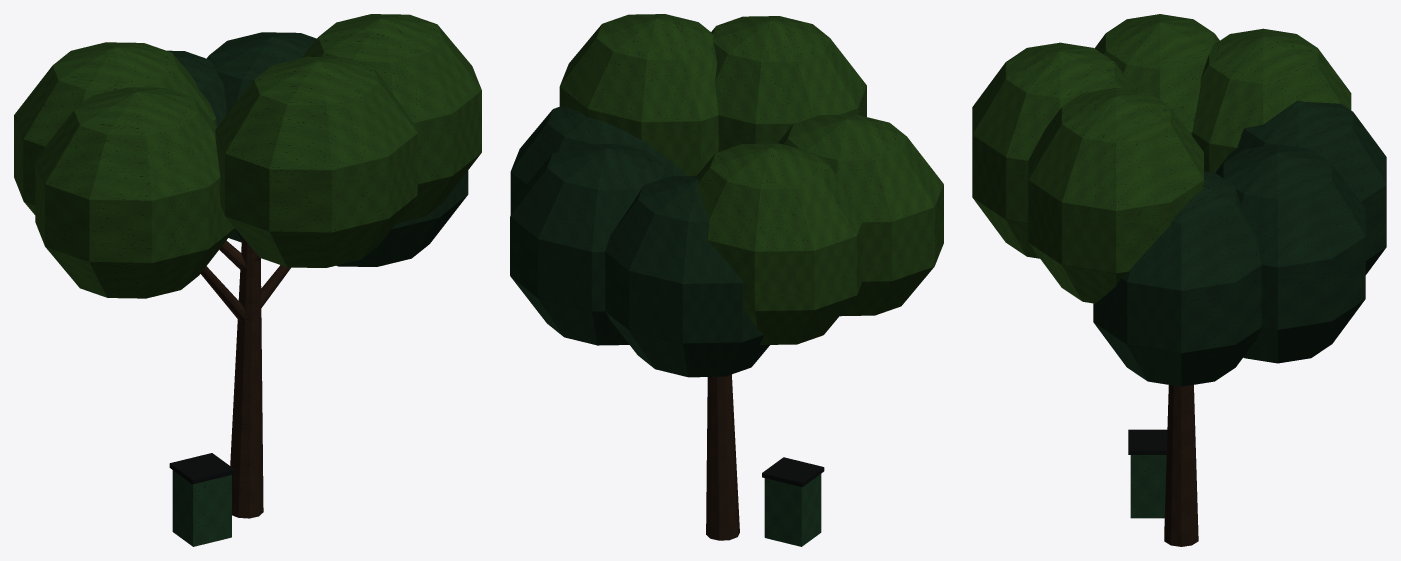
The model's file is PROP-B2791134C201_lod1.glb.
The picture shows the model from 3 angles, left to right: view 1: azimuth 30°, elevation 25°; view 2: azimuth 150°, elevation 25°; view 3: azimuth 270°, elevation 25°; orthographic projection. The views are drawn at different scales.
Visible parts, largest first — view 1: leaf_crown.093, leaf_crown.092, trunk.084, waste_container.001, branch.055, bin_lid.001; view 2: leaf_crown.093, leaf_crown.092, trunk.084, waste_container.001, bin_lid.001; view 3: leaf_crown.093, leaf_crown.092, trunk.084, waste_container.001, bin_lid.001.
Boxes of the visible parts, x1,y1,x2,y2 form: leaf_crown.093: (14,14,481,298); leaf_crown.092: (167,32,468,266); trunk.084: (230,237,263,518); waste_container.001: (172,470,231,546); branch.055: (200,240,290,321); bin_lid.001: (169,453,234,484); leaf_crown.093: (559,14,943,344); leaf_crown.092: (510,106,769,377); trunk.084: (706,374,739,540); waste_container.001: (764,474,821,546); bin_lid.001: (762,457,824,487); leaf_crown.093: (972,14,1351,303); leaf_crown.092: (1093,100,1386,386); trunk.084: (1164,385,1198,546); waste_container.001: (1130,455,1166,518); bin_lid.001: (1128,429,1167,454).
Size of the model in its own units: 6.54 by 7.24 by 5.51.
6 materials, 6 textured.
